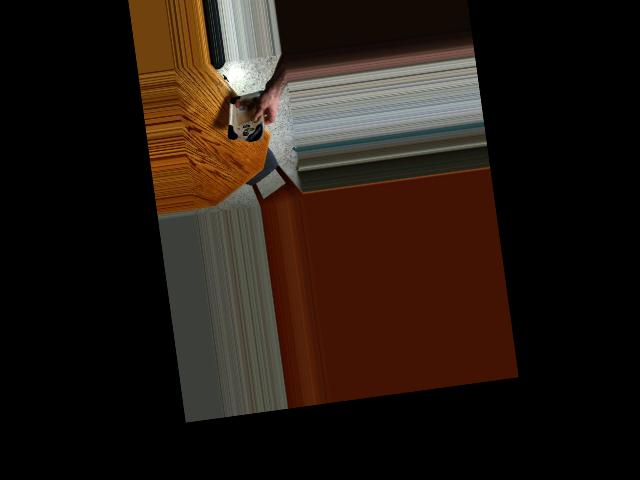cheese: (225, 84, 268, 147)
